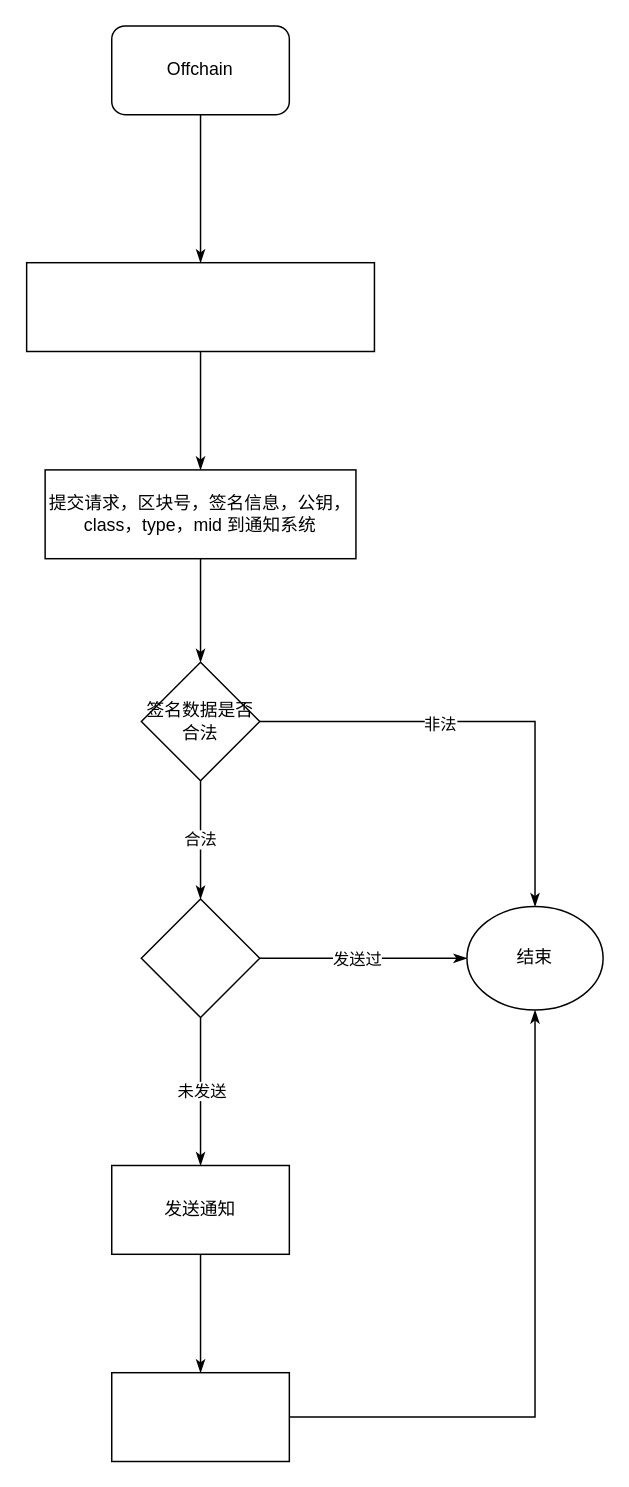
Image size: 629x1487. Some labels were removed from this diagram. Each missing label, with the centre of its shape:
"对（区块号+mid+class+type）进行签名" belongs at [199,306].
"是否已经发送" belongs at [200,958].
"标记为已发送" belongs at [199,1416].
